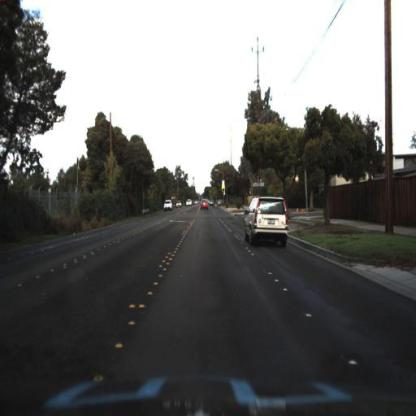car: (244, 192, 289, 250), (200, 196, 210, 210), (164, 199, 172, 211)
